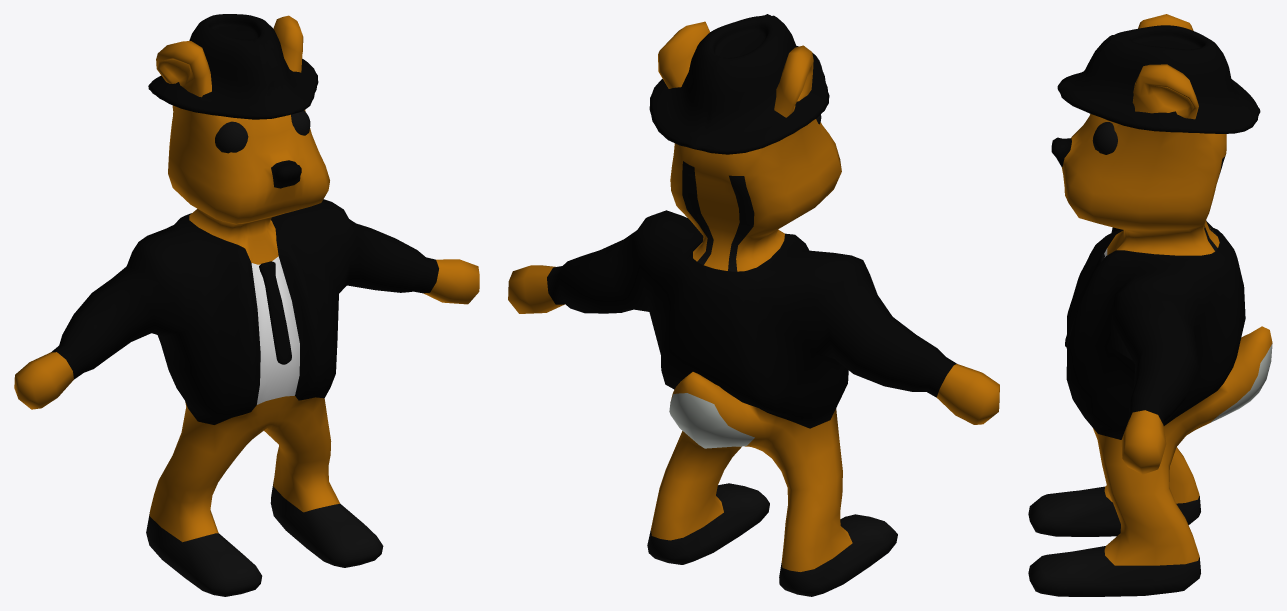
Rendered from Chipmunk.fbx.
The picture shows the model from 3 angles, left to right: view 1: azimuth 30°, elevation 25°; view 2: azimuth 150°, elevation 25°; view 3: azimuth 270°, elevation 25°; orthographic projection. The views are drawn at different scales.
Parts seen in each view (by area): view 1: Chipmonk.001; view 2: Chipmonk.001; view 3: Chipmonk.001.
Part boxes in pixels (box(x1,y1,x2,y2)): Chipmonk.001: box(14, 14, 479, 596); Chipmonk.001: box(508, 14, 999, 596); Chipmonk.001: box(1028, 14, 1272, 596).
Bounding box in the file's own units: 110 × 118 × 49.63.
